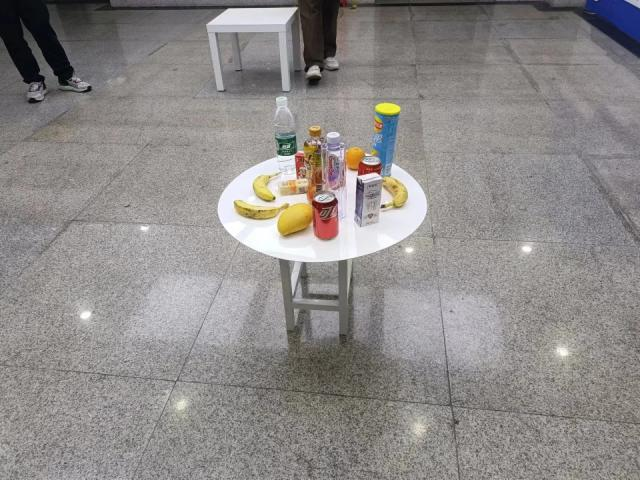Canned_drinks: (311, 190, 340, 241), (358, 156, 383, 194)
bottle: (322, 132, 348, 220), (272, 96, 298, 174)
cylinder: (373, 103, 400, 178)
drink_box: (356, 172, 382, 227), (296, 152, 309, 180)
